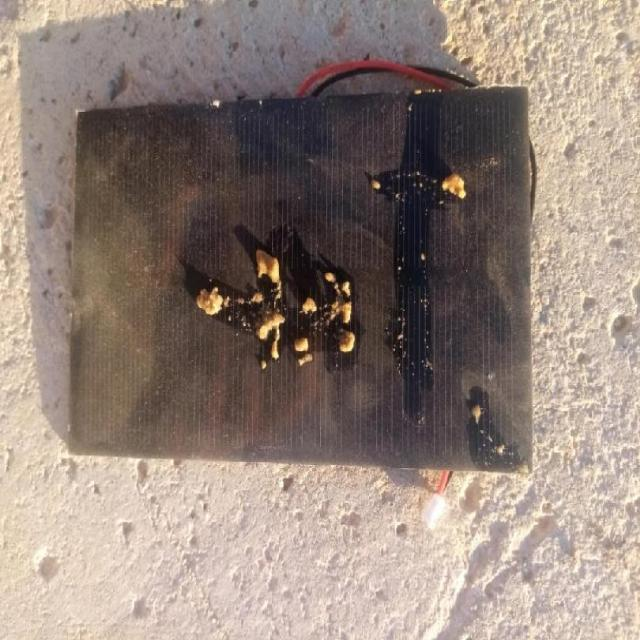faulty: (60, 113, 529, 473)
